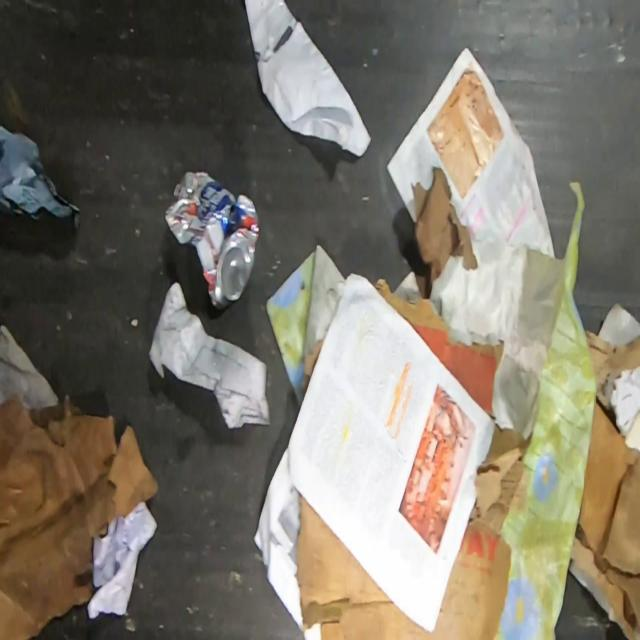cardboard: (296, 425, 533, 639), (0, 393, 160, 639), (370, 276, 505, 423), (577, 401, 640, 640), (584, 329, 640, 414), (570, 522, 601, 589)
metal: (164, 169, 260, 308)
soft_plastic: (0, 124, 80, 225)
